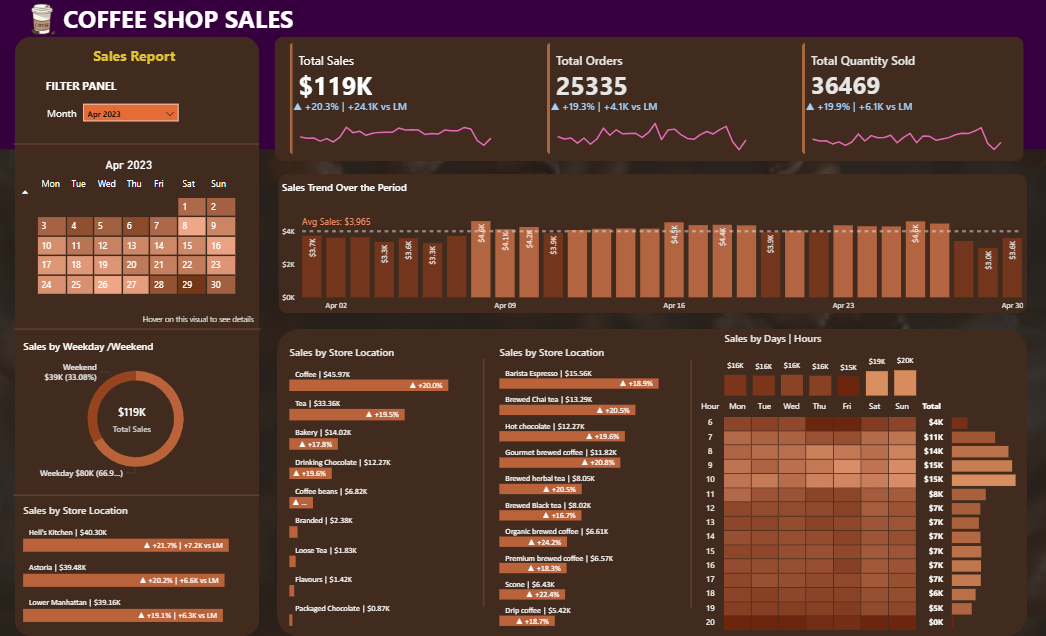

Layout of this report page (visuals, bound fields, positions):
{"tool":"powerbi","page":{"name":"Page 1","canvas":[1400,850],"ordinal":0},"visuals":[{"type":"shape","box":[0,0,1400,200.5],"z":0},{"type":"shape","box":[23.3,50,326.7,800],"z":1000},{"type":"shape","box":[370.7,50.3,999,166.5],"z":2000},{"type":"textbox","box":[83.1,0,325,58.1],"z":3000},{"type":"slicer","fields":{"Values":["Date Table.Month Year"]},"box":[110,135,136.7,55],"z":4000},{"type":"group","id":"g1","title":"Group 1","box":[370.2,50.8,303.3,166.7],"z":5000},{"type":"cardVisual","fields":{"Data":["Transactions.Total Sales"]},"box":[370.2,50.8,303.3,166],"z":5000,"group":"g1"},{"type":"cardVisual","fields":{"Data":["Transactions.Total Orders"]},"box":[713.6,50.8,300,166],"z":5000,"group":"g2"},{"type":"cardVisual","fields":{"Data":["Transactions.Total Quantity Sold"]},"box":[1053.6,50.8,300,166],"z":5000,"group":"g3"},{"type":"group","id":"g2","title":"Group 1","box":[713.6,50.8,300,166.7],"z":6000},{"type":"lineChart","fields":{"Category":["Date Table.Date.Variation.Date Hierarchy.Year","Date Table.Date.Variation.Date Hierarchy.Quarter","Date Table.Date.Variation.Date Hierarchy.Month","Date Table.Date.Variation.Date Hierarchy.Day"],"Y":["Transactions.Total Sales"]},"box":[390.4,134.8,283.1,82],"z":6000,"group":"g1"},{"type":"lineChart","fields":{"Category":["Date Table.Date.Variation.Date Hierarchy.Year","Date Table.Date.Variation.Date Hierarchy.Quarter","Date Table.Date.Variation.Date Hierarchy.Month","Date Table.Date.Variation.Date Hierarchy.Day"],"Y":["Transactions.Total Orders"]},"box":[733.6,134.8,280,82],"z":6000,"group":"g2"},{"type":"lineChart","fields":{"Category":["Date Table.Date.Variation.Date Hierarchy.Year","Date Table.Date.Variation.Date Hierarchy.Quarter","Date Table.Date.Variation.Date Hierarchy.Month","Date Table.Date.Variation.Date Hierarchy.Day"],"Y":["Transactions.Total Quantity Sold"]},"box":[1073.6,134.8,280,82],"z":6000,"group":"g3"},{"type":"group","id":"g3","title":"Group 1","box":[1053.6,50.8,300,166.7],"z":7000},{"type":"pivotTable","fields":{"Rows":["Date Table.Week Number"],"Columns":["Date Table.Day Name"],"Values":["Min(Date Table.Day Number)"]},"box":[23.3,230,305,206.7],"z":8000},{"type":"cardVisual","fields":{"Data":["Min(Date Table.Month Year)"]},"box":[111.7,190,128.3,58.3],"z":9000},{"type":"cardVisual","fields":{"Data":["Transactions.Foot Note"]},"box":[163.3,396.7,210,56.7],"z":10000},{"type":"shape","box":[23.3,421.7,328.3,36.7],"z":11000},{"type":"shape","box":[21.7,175,328.3,36.7],"z":12000},{"type":"donutChart","title":"Sales by Weekday /Weekend","fields":{"Category":["Date Table.Weekday / Weekend"],"Y":["Transactions.Total Sales"]},"box":[30,452.9,310,195.7],"z":13000},{"type":"card","fields":{"Values":["Transactions.Total Sales"]},"box":[126.7,526.7,106.7,65],"z":14000},{"type":"shape","box":[21.7,643.3,328.3,36.7],"z":15000},{"type":"clusteredBarChart","title":"Sales by Store Location","fields":{"Category":["Transactions.store_location"],"Y":["Transactions.Placeholder","Transactions.Total Sales"]},"box":[30,671.7,311.7,166.7],"z":16000},{"type":"shape","box":[375,233.9,998.6,185.7],"z":17000},{"type":"columnChart","title":"Sales Trend Over the Period","fields":{"Category":["Transactions.transaction_date"],"Y":["Transactions.Total Sales"]},"box":[375,241.1,998.6,184.3],"z":18000},{"type":"shape","box":[373.3,440,1000,410],"z":19000},{"type":"clusteredBarChart","title":"Sales by Store Location","fields":{"Y":["Transactions.Placeholder","Transactions.Total Sales"],"Category":["Transactions.product_category"]},"box":[385,461.7,250,380],"z":20000},{"type":"shape","box":[621.4,480,54.3,330],"z":21000},{"type":"clusteredBarChart","title":"Sales by Store Location","fields":{"Y":["Transactions.Placeholder","Transactions.Total Sales"],"Category":["Transactions.product_type"]},"box":[665,461.7,250,380],"z":22000},{"type":"shape","box":[898.6,481.4,54.3,330],"z":23000},{"type":"pivotTable","fields":{"Rows":["Transactions.Hour"],"Columns":["Date Table.Day Name"],"Values":["Transactions.Total Sales"]},"box":[928.3,530,370,318.3],"z":24000},{"type":"barChart","fields":{"Category":["Transactions.Hour"],"Y":["Transactions.Total Sales"]},"box":[1268.3,545,120,300],"z":25000},{"type":"columnChart","title":"Sales by Days | Hours","fields":{"Y":["Transactions.Total Sales"],"Category":["Date Table.Day Name"]},"box":[965,443.3,266.7,91.7],"z":26000},{"type":"textbox","box":[61,138,63,37],"z":27000},{"type":"textbox","box":[124,58,130,42],"z":28000},{"type":"textbox","box":[59.2,100,116.7,33.3],"z":29000},{"type":"image","box":[16.2,0,85,50],"z":30000}]}

Visuals, with their boxes in screenshot pixels (x1, y1, x2, y2), scaled from the page's 1400x850 canvas onto the 1046x636 screenshot:
shape: [0, 0, 1045, 150]
shape: [17, 37, 262, 635]
shape: [277, 38, 1023, 162]
textbox: [62, 0, 305, 43]
slicer - Date Table.Month Year: [82, 101, 184, 142]
"Group 1" group: [277, 38, 503, 163]
cardVisual - Transactions.Total Sales: [277, 38, 503, 162]
cardVisual - Transactions.Total Orders: [533, 38, 757, 162]
cardVisual - Transactions.Total Quantity Sold: [787, 38, 1011, 162]
"Group 1" group: [533, 38, 757, 163]
lineChart - Date Table.Date.Variation.Date Hierarchy.Year x Date Table.Date.Variation.Date Hierarchy.Quarter: [292, 101, 503, 162]
lineChart - Date Table.Date.Variation.Date Hierarchy.Year x Date Table.Date.Variation.Date Hierarchy.Quarter: [548, 101, 757, 162]
lineChart - Date Table.Date.Variation.Date Hierarchy.Year x Date Table.Date.Variation.Date Hierarchy.Quarter: [802, 101, 1011, 162]
"Group 1" group: [787, 38, 1011, 163]
pivotTable - Date Table.Week Number x Date Table.Day Name: [17, 172, 245, 327]
cardVisual - Min(Date Table.Month Year): [83, 142, 179, 186]
cardVisual - Transactions.Foot Note: [122, 297, 279, 339]
shape: [17, 316, 263, 343]
shape: [16, 131, 262, 158]
"Sales by Weekday /Weekend" donutChart: [22, 339, 254, 485]
card - Transactions.Total Sales: [95, 394, 174, 443]
shape: [16, 481, 262, 509]
"Sales by Store Location" clusteredBarChart: [22, 503, 255, 627]
shape: [280, 175, 1026, 314]
"Sales Trend Over the Period" columnChart: [280, 180, 1026, 318]
shape: [279, 329, 1026, 635]
"Sales by Store Location" clusteredBarChart: [288, 345, 474, 630]
shape: [464, 359, 505, 606]
"Sales by Store Location" clusteredBarChart: [497, 345, 684, 630]
shape: [671, 360, 712, 607]
pivotTable - Transactions.Hour x Date Table.Day Name: [694, 397, 970, 635]
barChart - Transactions.Hour x Transactions.Total Sales: [948, 408, 1037, 632]
"Sales by Days | Hours" columnChart: [721, 332, 920, 400]
textbox: [46, 103, 93, 131]
textbox: [93, 43, 190, 75]
textbox: [44, 75, 131, 100]
image: [12, 0, 76, 37]
